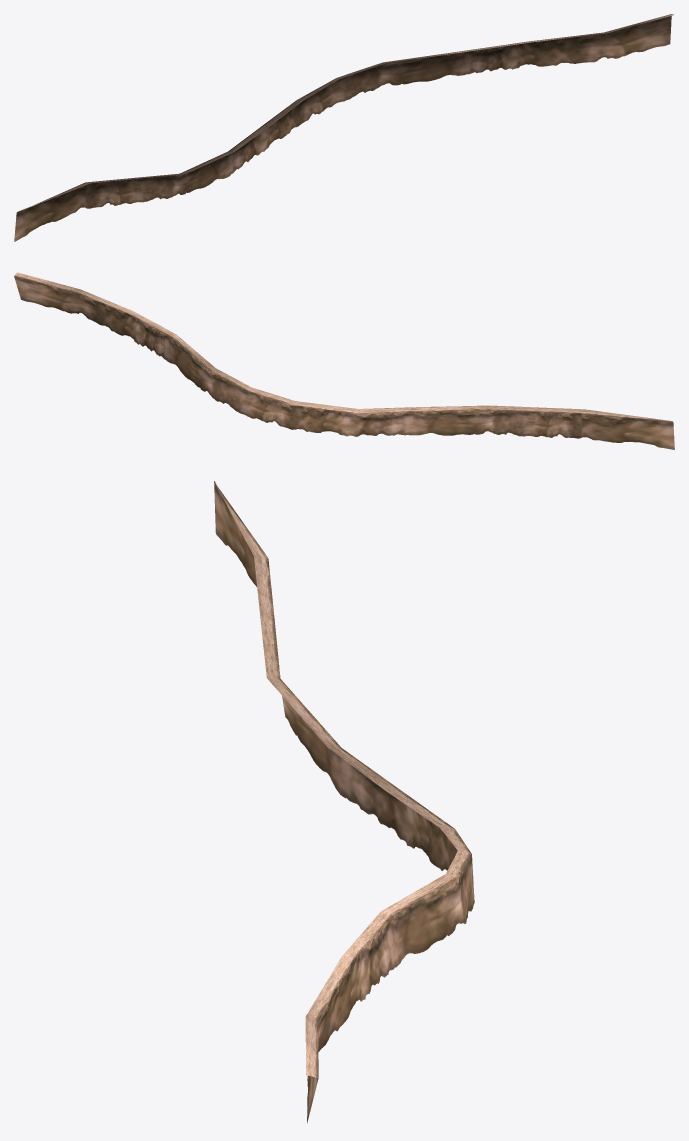
File: EKH_CAVERNS_PS_CA_EDGE_GRAB93849.fbx
The picture shows the model from 3 angles, top to bottom: view 1: azimuth 30°, elevation 25°; view 2: azimuth 150°, elevation 25°; view 3: azimuth 270°, elevation 25°; orthographic projection. The views are drawn at different scales.
Parts seen in each view (by area): view 1: EKH_CAVERNS_PS_CA_EDGE_GRAB93849; view 2: EKH_CAVERNS_PS_CA_EDGE_GRAB93849; view 3: EKH_CAVERNS_PS_CA_EDGE_GRAB93849.
Boxes of the visible parts, x1,y1,x2,y2 form: EKH_CAVERNS_PS_CA_EDGE_GRAB93849: [14, 14, 674, 241]; EKH_CAVERNS_PS_CA_EDGE_GRAB93849: [14, 272, 674, 449]; EKH_CAVERNS_PS_CA_EDGE_GRAB93849: [214, 481, 474, 1123].
Bounding box in the file's own units: 126991 × 11653 × 22571.
1 material, 1 textured.
